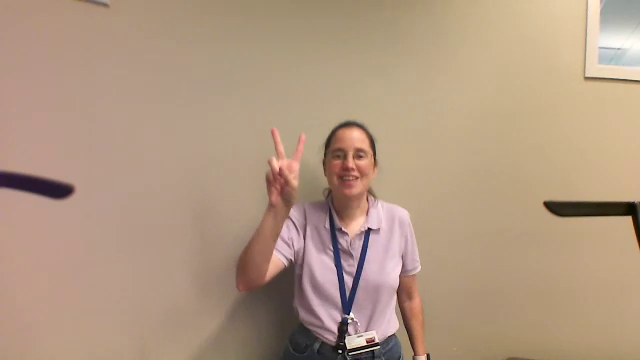peace: (256, 119, 310, 204)
